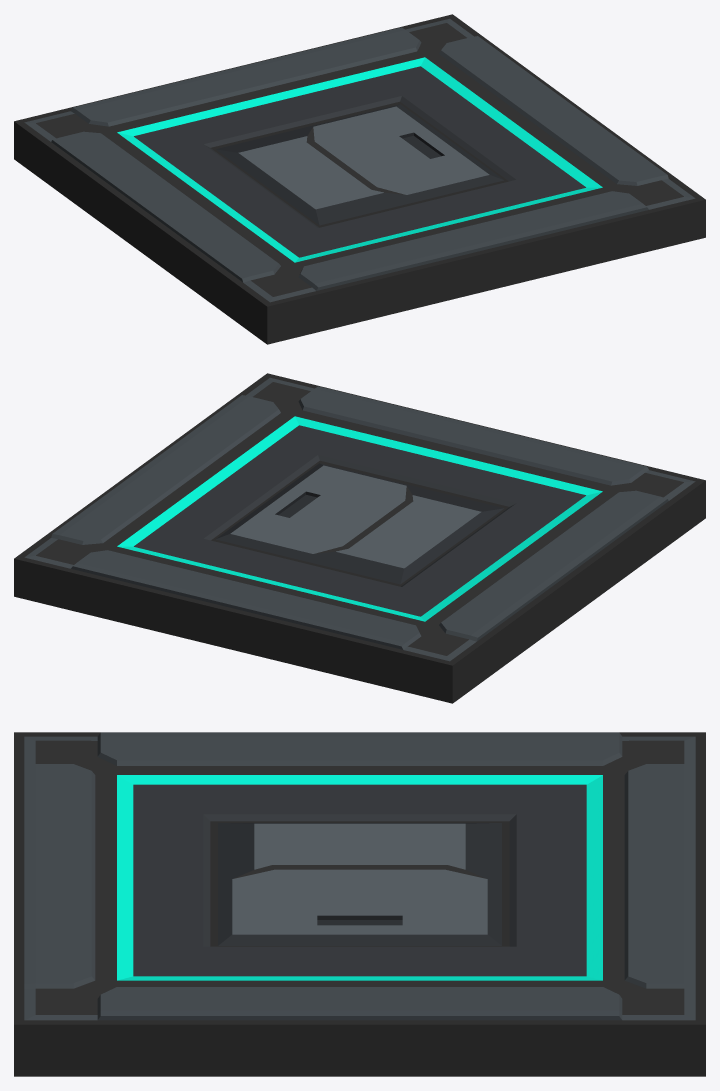
The model's file is SM_Bld_Floor_Small_02.fbx.
3 renders of one model, top to bottom at view 1: azimuth 30°, elevation 25°; view 2: azimuth 150°, elevation 25°; view 3: azimuth 270°, elevation 25°, orthographic. The views are drawn at different scales.
Visible parts, largest first — view 1: SM_Bld_Floor_Small_02; view 2: SM_Bld_Floor_Small_02; view 3: SM_Bld_Floor_Small_02.
Part boxes in pixels (left/top/right/bottom): SM_Bld_Floor_Small_02: left=14, top=14, right=705, bottom=344; SM_Bld_Floor_Small_02: left=14, top=373, right=705, bottom=703; SM_Bld_Floor_Small_02: left=14, top=732, right=705, bottom=1076.
Size of the model in its own units: 250 by 22.65 by 250.
Materials: 1 (1 with a texture image).
